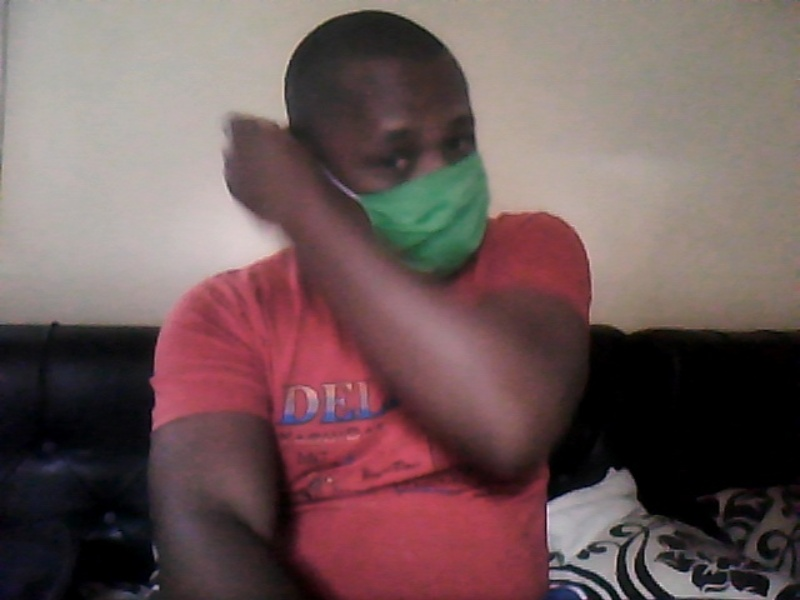ManaoArotava: (279, 15, 524, 294)
